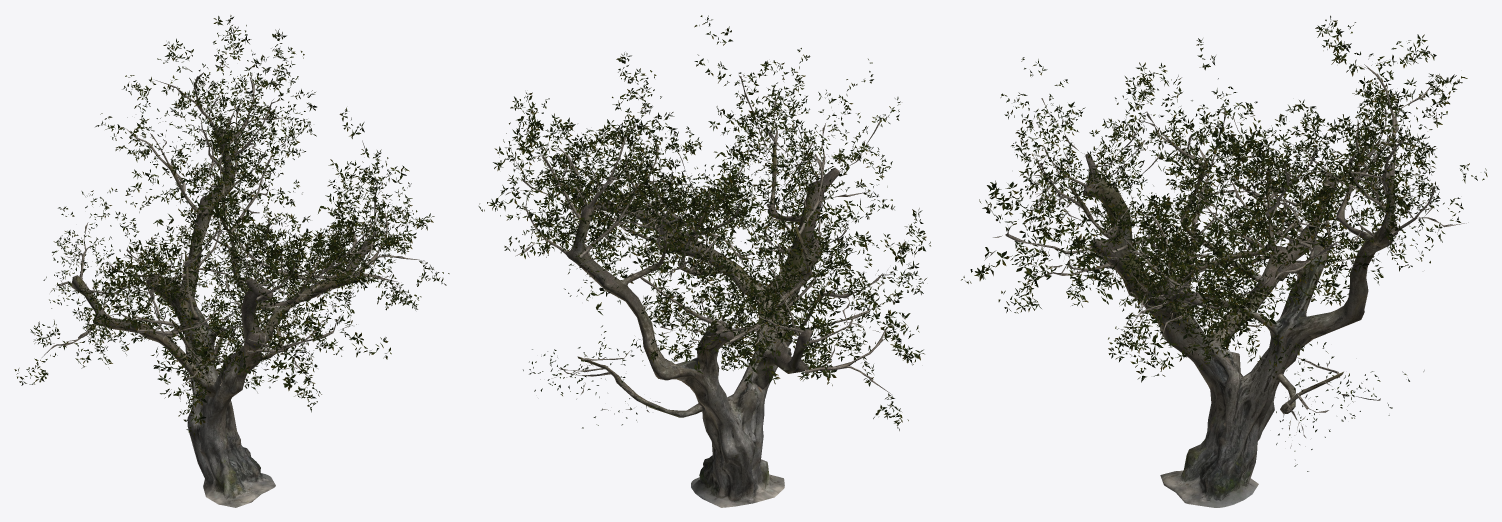
File: island_tree_near.glb
3 renders of one model, left to right at view 1: azimuth 30°, elevation 25°; view 2: azimuth 150°, elevation 25°; view 3: azimuth 270°, elevation 25°, orthographic. The views are drawn at different scales.
Visible parts, largest first — view 1: island_tree_01_LOD1; view 2: island_tree_01_LOD1; view 3: island_tree_01_LOD1.
Boxes of the visible parts, box(x1,y1,x2,y2) form: island_tree_01_LOD1: box(14, 15, 449, 507); island_tree_01_LOD1: box(478, 15, 930, 507); island_tree_01_LOD1: box(961, 15, 1487, 507).
Bounding box in the file's own units: 4.74 × 5.02 × 4.78.
3 materials, 3 textured.
